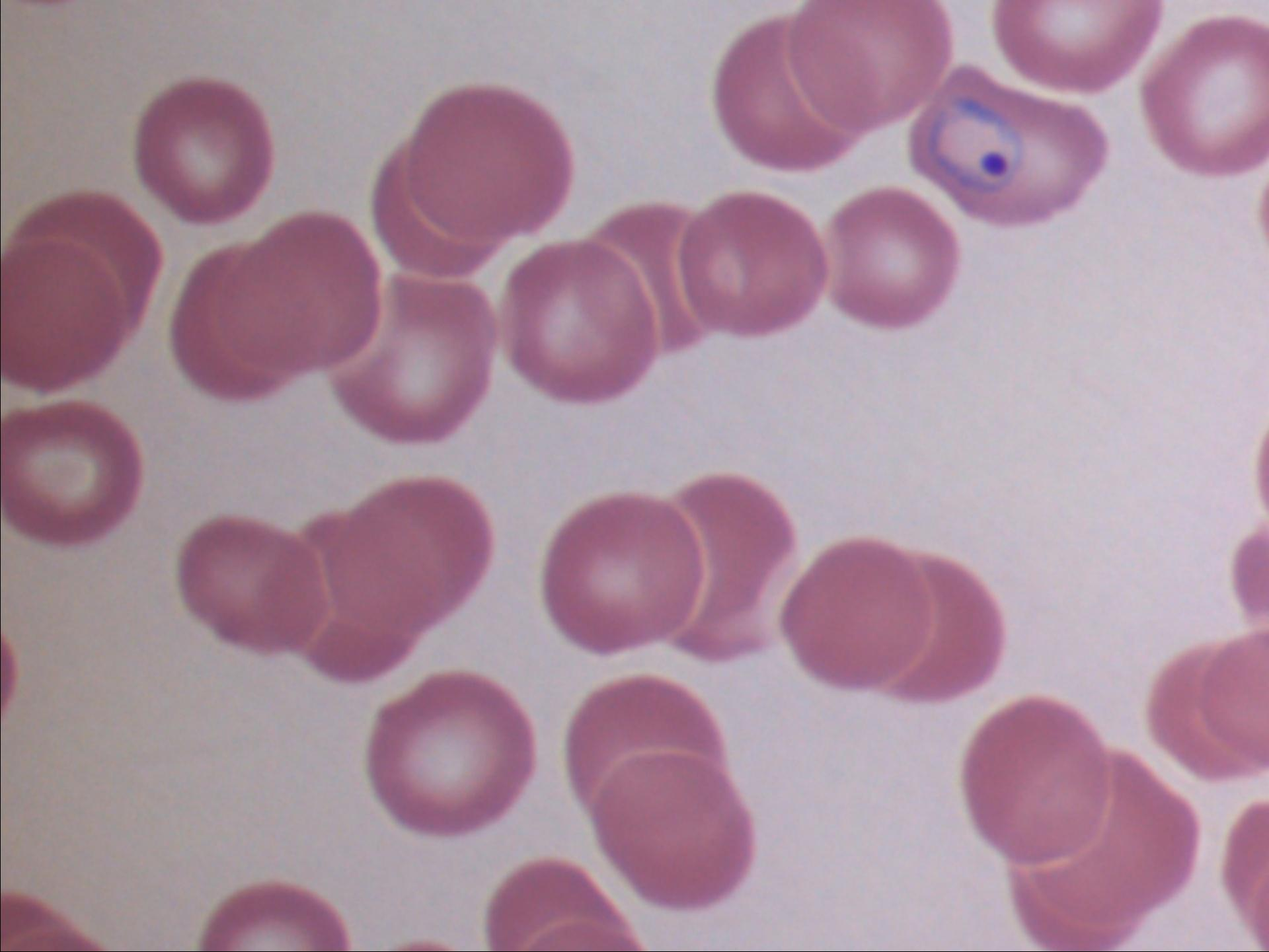Infected: (907, 66, 1108, 226)
Uninfected: (1018, 745, 1199, 924), (639, 476, 798, 660), (332, 268, 496, 442), (367, 671, 532, 834), (544, 491, 704, 657), (220, 210, 379, 374), (326, 473, 492, 629), (963, 696, 1112, 869), (593, 747, 750, 911), (565, 674, 724, 834), (777, 535, 938, 693), (507, 238, 660, 403), (580, 199, 745, 352), (409, 83, 570, 238), (0, 194, 157, 352), (714, 15, 873, 170), (848, 555, 1005, 703), (177, 512, 339, 655), (679, 190, 831, 337), (787, 0, 952, 135), (169, 245, 310, 401), (1140, 14, 1269, 177), (377, 132, 518, 279), (0, 402, 140, 548), (818, 187, 960, 329), (0, 235, 129, 390), (140, 76, 273, 224), (993, 0, 1161, 90)
